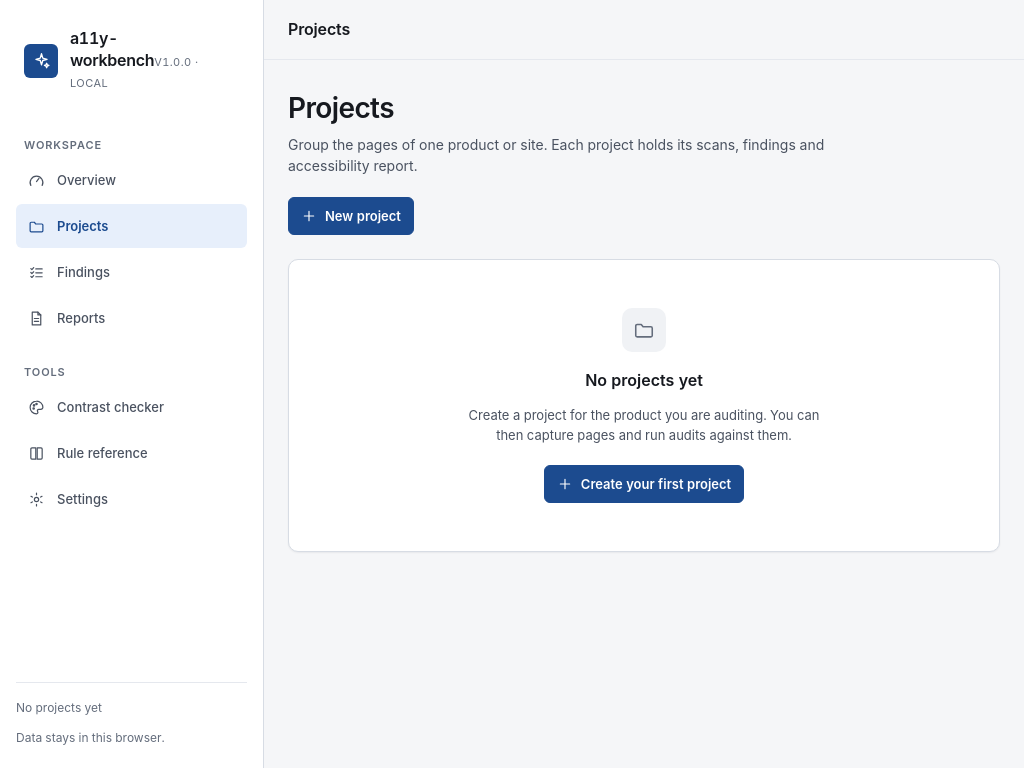
Scenario: create project → capture → findings › captures a sample page, runs the audit and lists the findings
Click the button "Create your first project". click: [644, 484]
box: [544, 465, 744, 503]
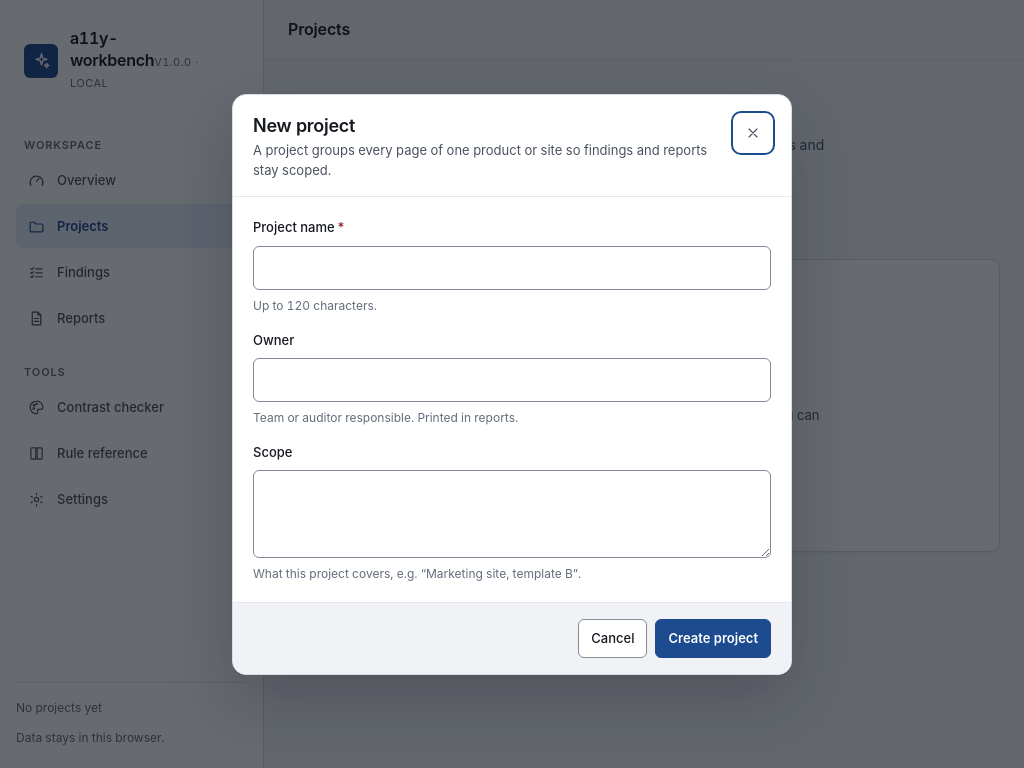
Type "Acme Store" into the field labelled "Project name*". click: [512, 268]
box: [253, 246, 771, 290]
Click the button "Create project". click: [713, 638]
box: [656, 619, 771, 658]
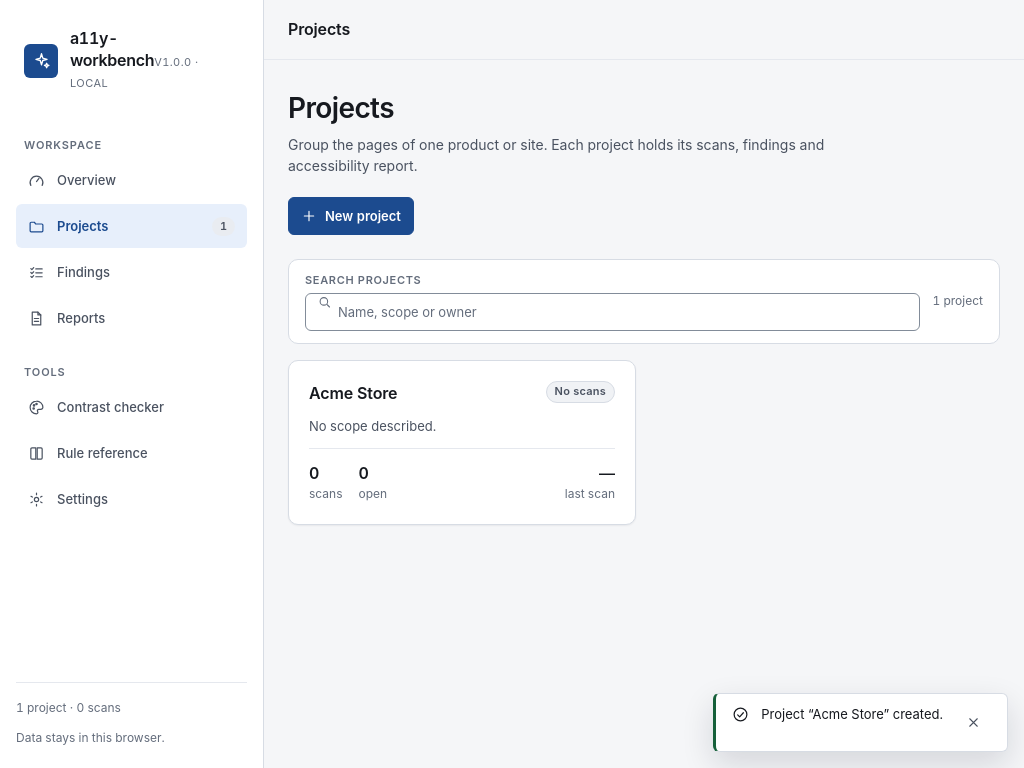
// Open the project.
Click the link "Acme Store". click: [353, 393]
box: [288, 360, 636, 525]
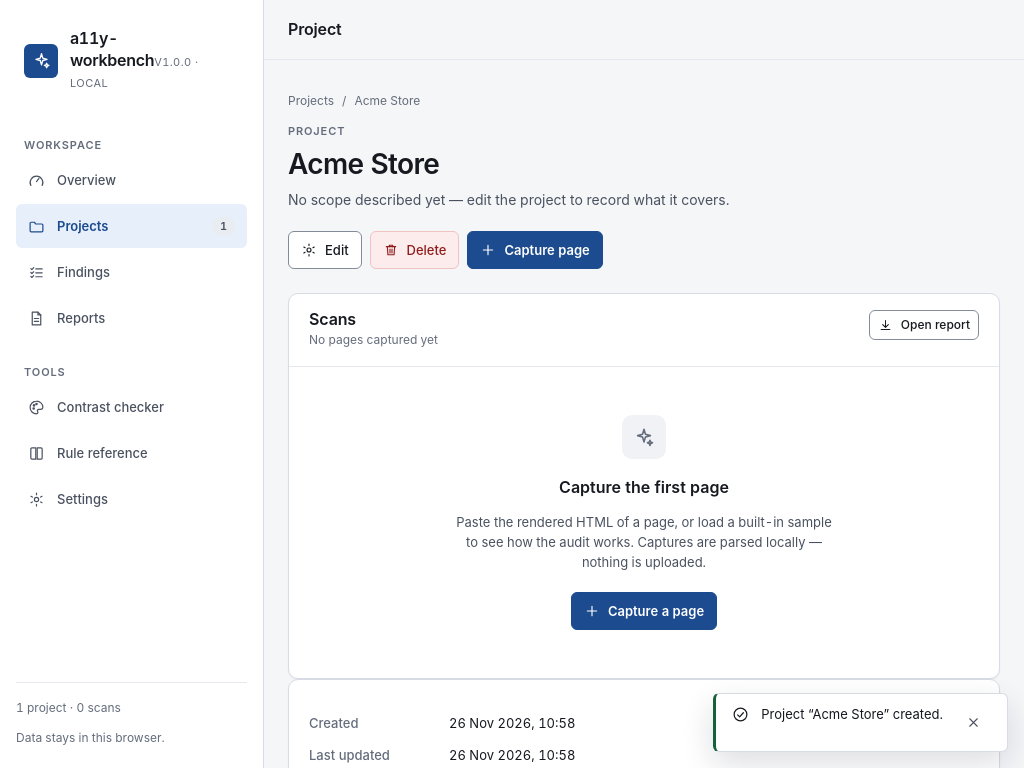
Click the button "Capture a page". click: [644, 611]
box: [571, 592, 717, 630]
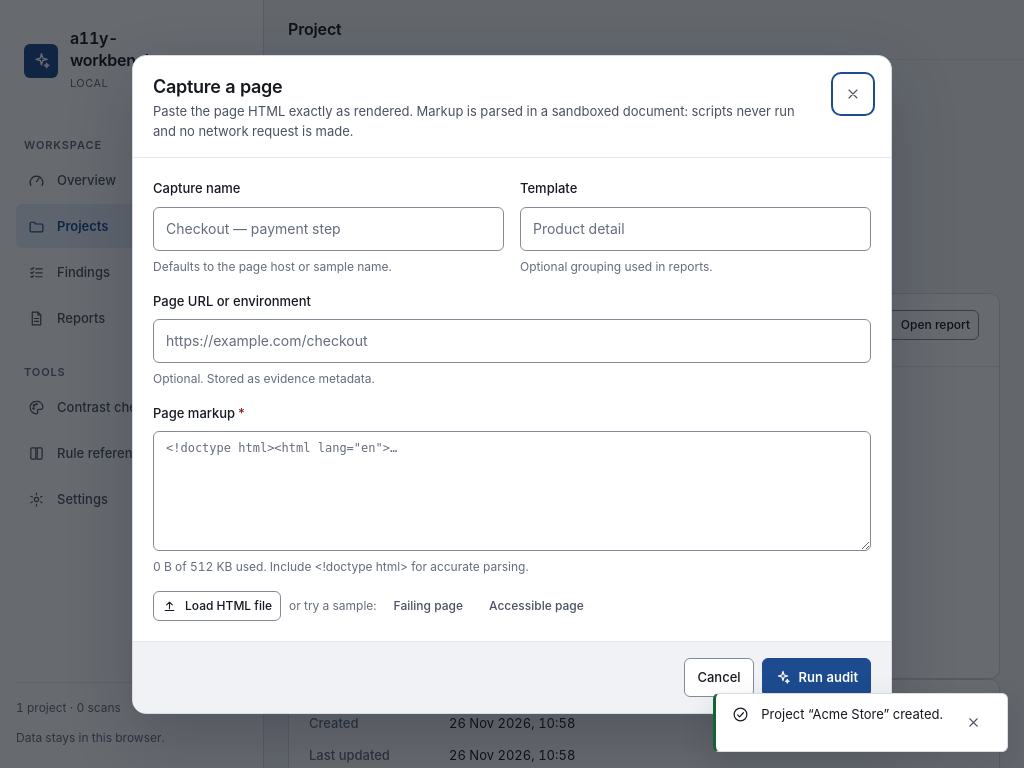
// Load the failing sample and run the audit.
Click the button "Failing page". click: [428, 606]
box: [385, 591, 472, 621]
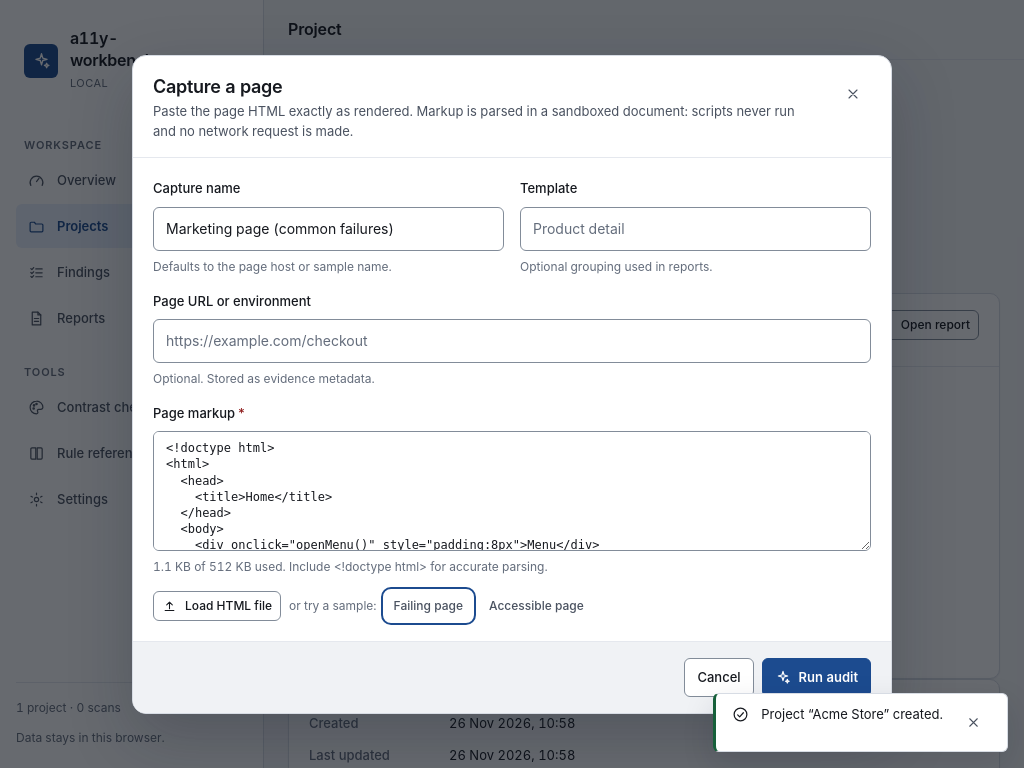
Click the button "Run audit". click: [816, 677]
box: [762, 658, 871, 696]
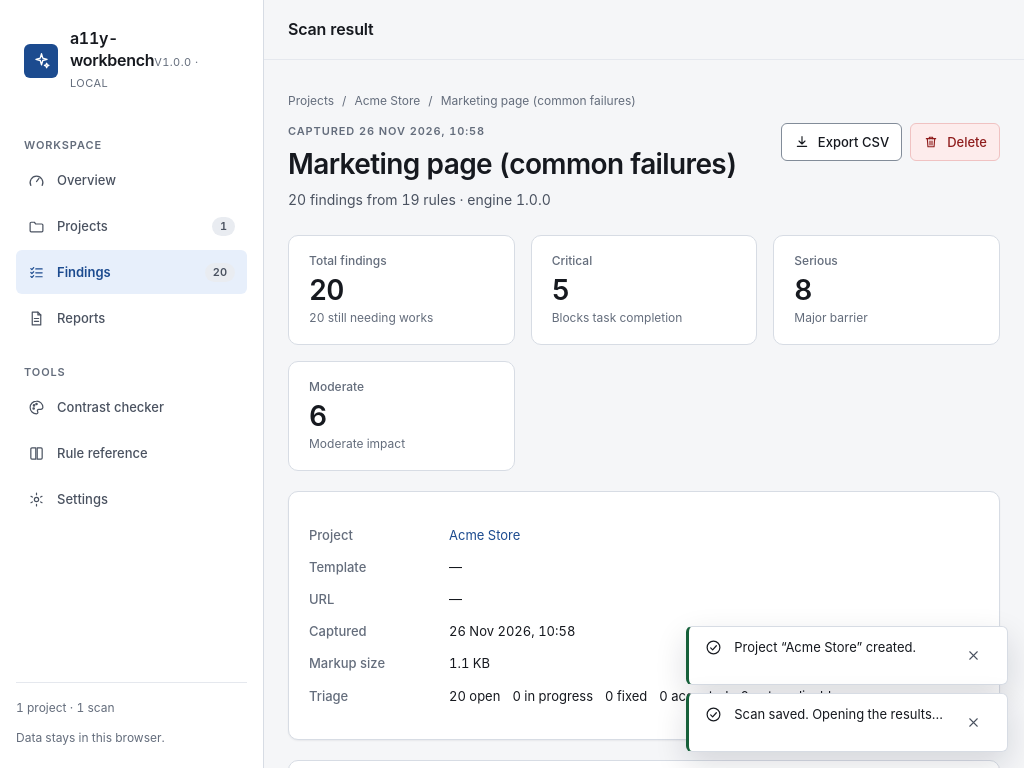
expect the heading "Marketing page (common failures)" is shown: met, box [288, 148, 736, 181]
